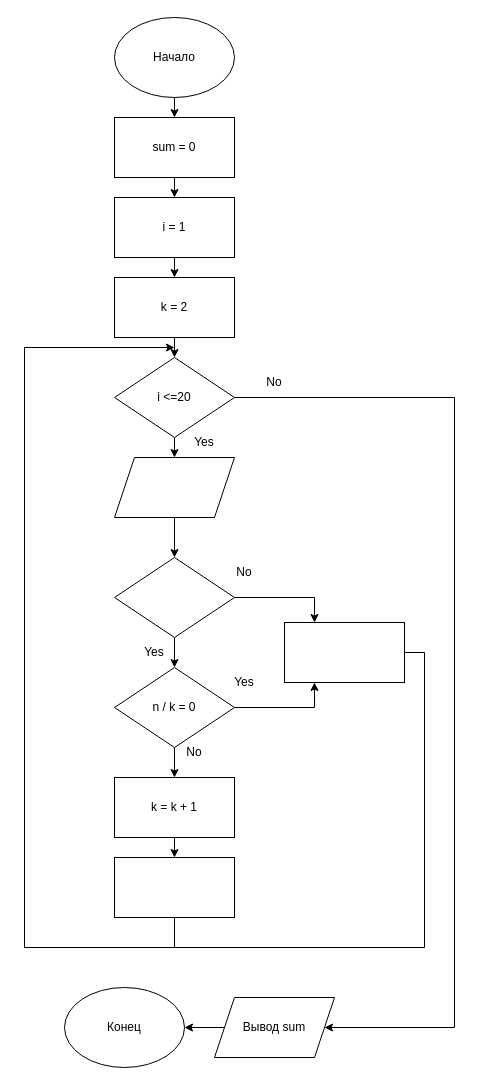
This 480x1085 diagram has some shape labels left out. Each missing label, with the box of its shape:
i = i + 1: (114, 856, 234, 918)
k < n: (114, 556, 234, 638)
sum += sum + n: (284, 622, 404, 682)
Вводим n: (114, 456, 234, 518)
